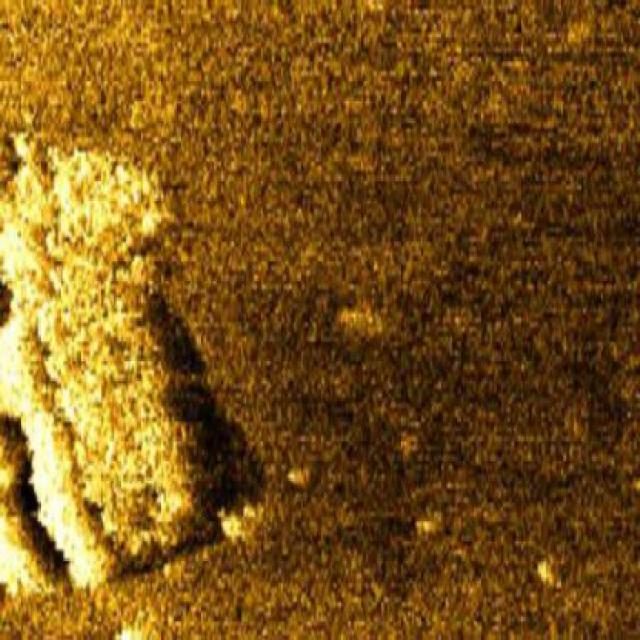bedrock group: (0, 119, 243, 596)
